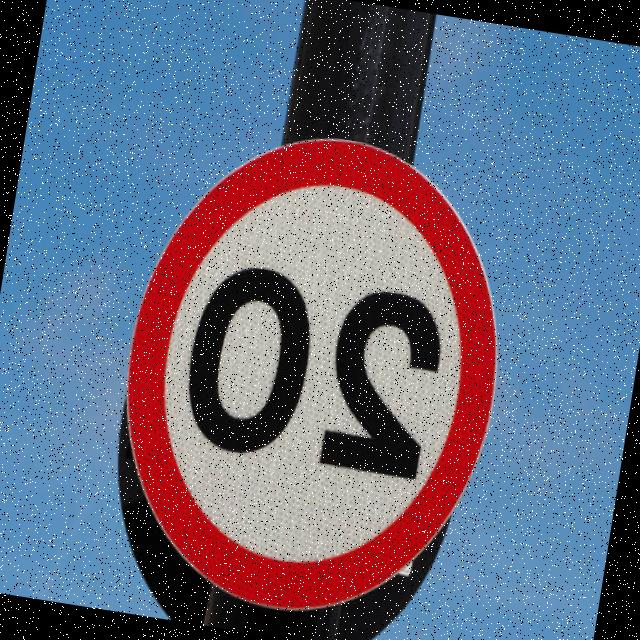speed_limit_20: (90, 99, 545, 640)
